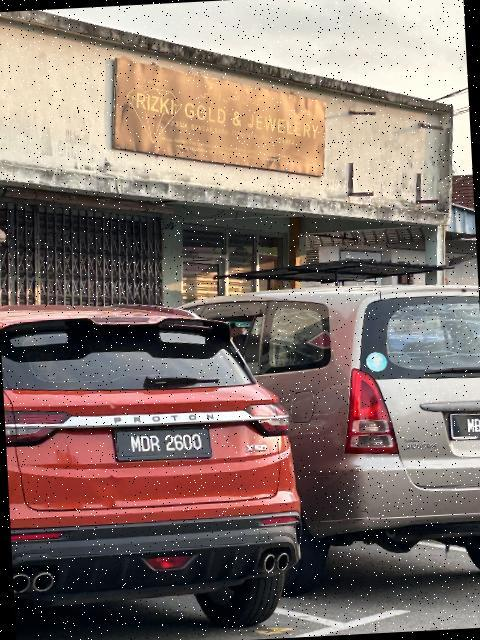License_Plate: (113, 425, 215, 465)
MDR2600: (113, 425, 215, 465)
car: (1, 268, 305, 640), (165, 265, 480, 585)
